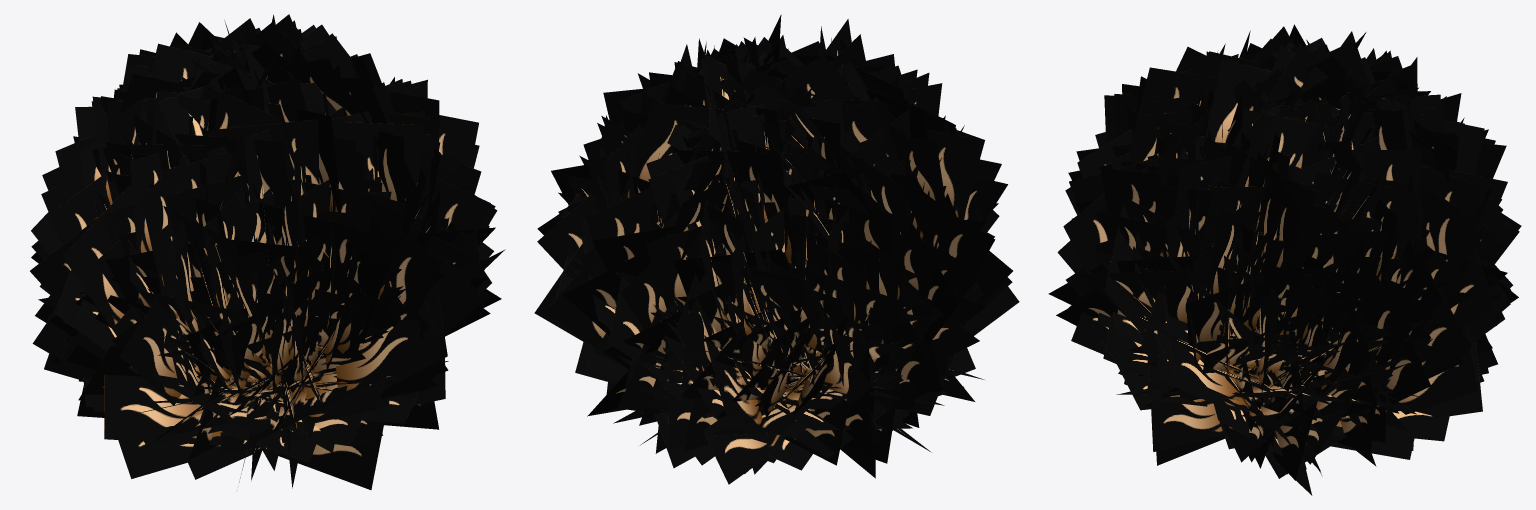
The model's file is fur_patch.glb.
The picture shows the model from 3 angles, left to right: view 1: azimuth 30°, elevation 25°; view 2: azimuth 150°, elevation 25°; view 3: azimuth 270°, elevation 25°; orthographic projection. The views are drawn at different scales.
Visible parts, largest first — view 1: hair practice 001_1; view 2: hair practice 001_1; view 3: hair practice 001_1.
Boxes of the visible parts, x1,y1,x2,y2 form: hair practice 001_1: (30, 14, 505, 489); hair practice 001_1: (534, 14, 1019, 484); hair practice 001_1: (1048, 24, 1521, 495).
Size of the model in its own units: 4.23 by 4.09 by 4.17.
1 material, 1 textured.
